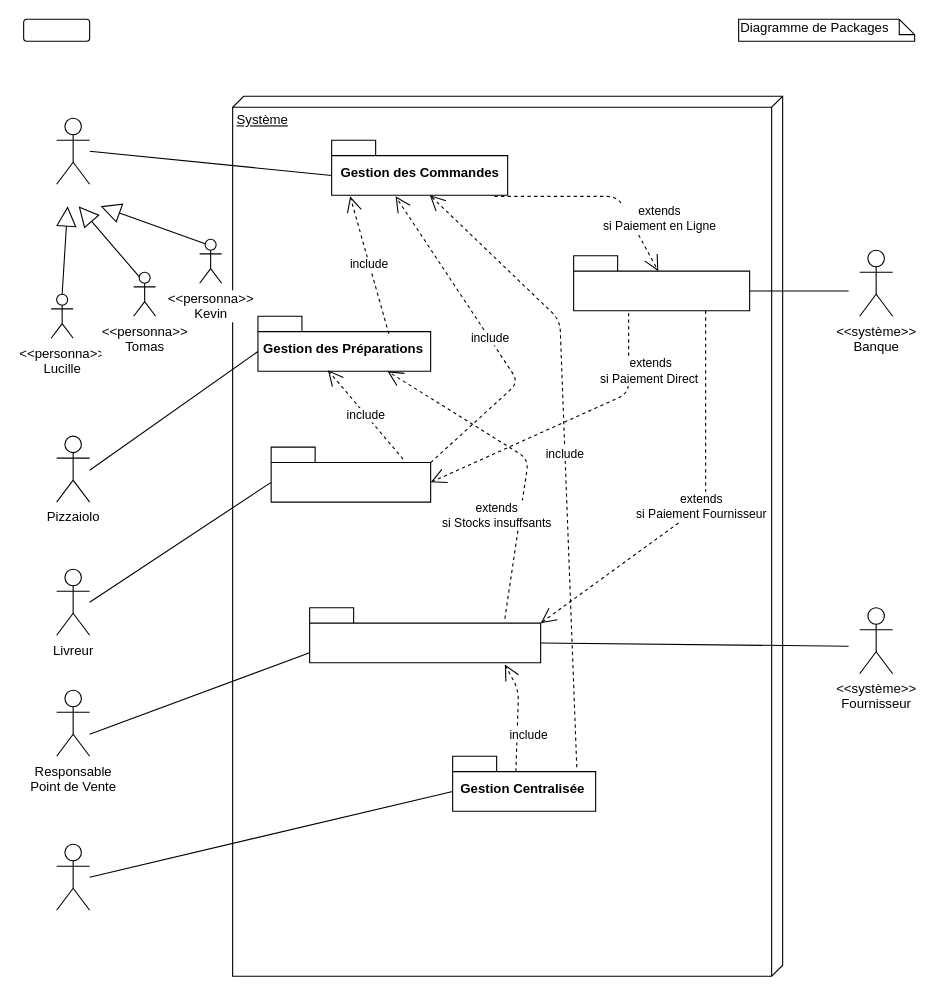
The diagram is 935 pixels wide and 996 high, and some of its shapes have lost their labels. The shapes that lost their labels are listed below. From the top down, each one's box as (x1, y1, x2, y2) in pixels, then its label:
(23, 18, 90, 41): OC'Pizza
(56, 117, 90, 184): Client
(573, 255, 750, 311): Gestion des Règlements
(270, 446, 431, 502): Gestion des Livraisons
(309, 607, 541, 663): Gestion des Approvisionnements
(56, 843, 90, 910): Direction Groupe
